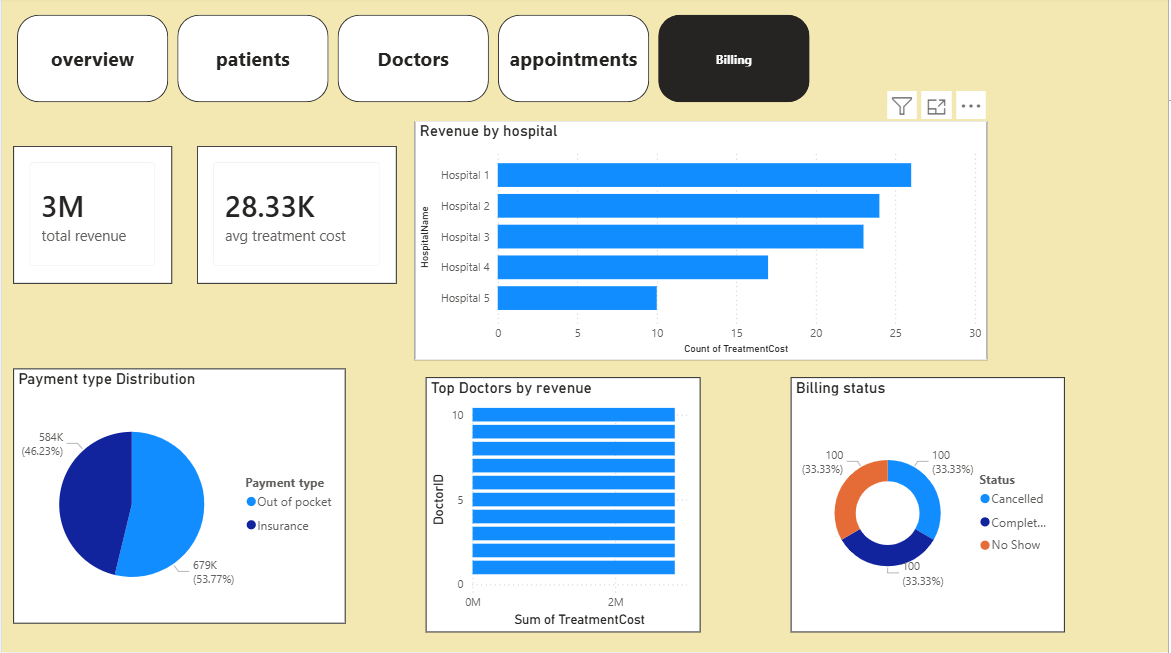

The dashboard page shown, as its layout file describes it:
{"tool":"powerbi","page":{"name":"Billing","canvas":[1280,720],"ordinal":4},"visuals":[{"type":"pageNavigator","box":[16.5,20.6,871.4,96.1],"z":0},{"type":"cardVisual","fields":{"Data":["Patients.total revenue"]},"box":[12.3,164.7,174.3,150.9],"z":1000},{"type":"cardVisual","fields":{"Data":["Patients.avg treatment cost"]},"box":[214.1,164.7,219.6,150.9],"z":2000},{"type":"barChart","title":"Revenue by hospital","fields":{"Category":["Hospitals.HospitalName"],"Y":["CountNonNull(Billing.TreatmentCost)"]},"box":[452.8,137.2,628.5,262.1],"z":3000},{"type":"pieChart","title":"Payment type Distribution","fields":{"Y":["Patients.Outofpocket"],"Category":["Billing.Payment type"]},"box":[12.3,408.9,365,279.9],"z":4001},{"type":"donutChart","title":"Billing status","fields":{"Category":["Appointments.Status"],"Y":["CountNonNull(Billing.BillingID)"]},"box":[865.9,418.5,300.5,279.9],"z":4002},{"type":"clusteredBarChart","title":"Top Doctors by revenue","fields":{"Category":["Appointments.DoctorID"],"Y":["Sum(Billing.TreatmentCost)"]},"box":[465.2,418.5,301.9,279.9],"z":4004}]}

Visuals, with their boxes in screenshot pixels (x1, y1, x2, y2), scaled from the page's 1280x720 canvas onto the 1171x653 screenshot:
pageNavigator: {"x1": 15, "y1": 19, "x2": 812, "y2": 106}
cardVisual - Patients.total revenue: {"x1": 11, "y1": 149, "x2": 171, "y2": 286}
cardVisual - Patients.avg treatment cost: {"x1": 196, "y1": 149, "x2": 397, "y2": 286}
"Revenue by hospital" barChart: {"x1": 414, "y1": 124, "x2": 989, "y2": 362}
"Payment type Distribution" pieChart: {"x1": 11, "y1": 371, "x2": 345, "y2": 625}
"Billing status" donutChart: {"x1": 792, "y1": 380, "x2": 1067, "y2": 633}
"Top Doctors by revenue" clusteredBarChart: {"x1": 426, "y1": 380, "x2": 702, "y2": 633}
